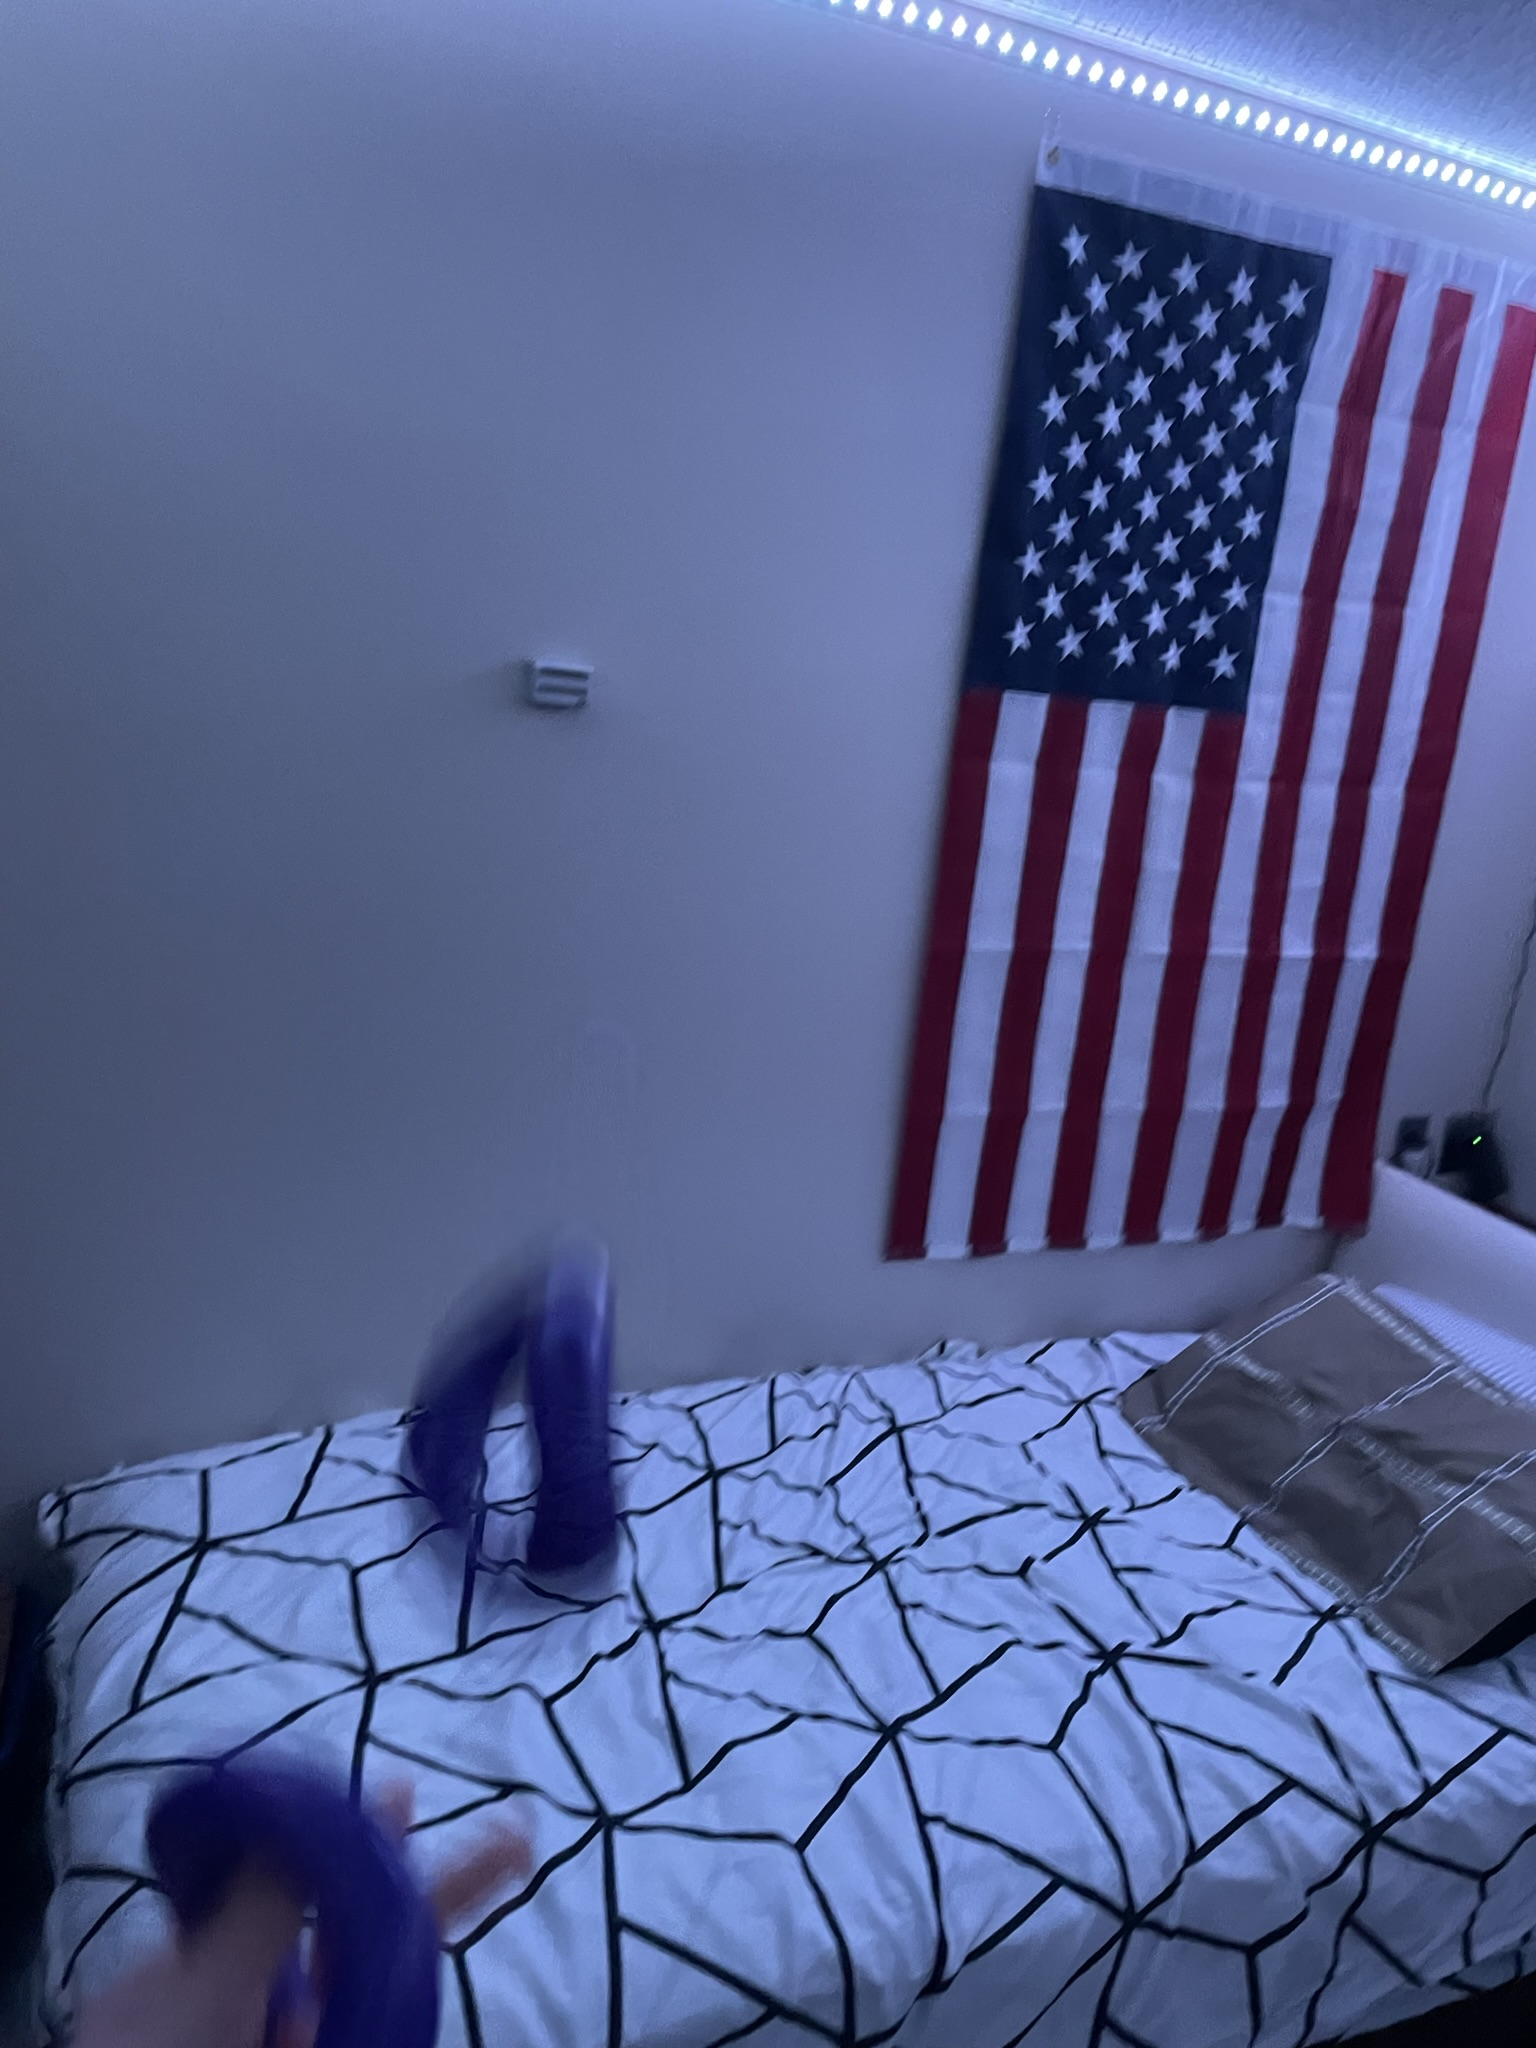ring: (137, 1743, 449, 2048), (400, 1235, 629, 1600)
